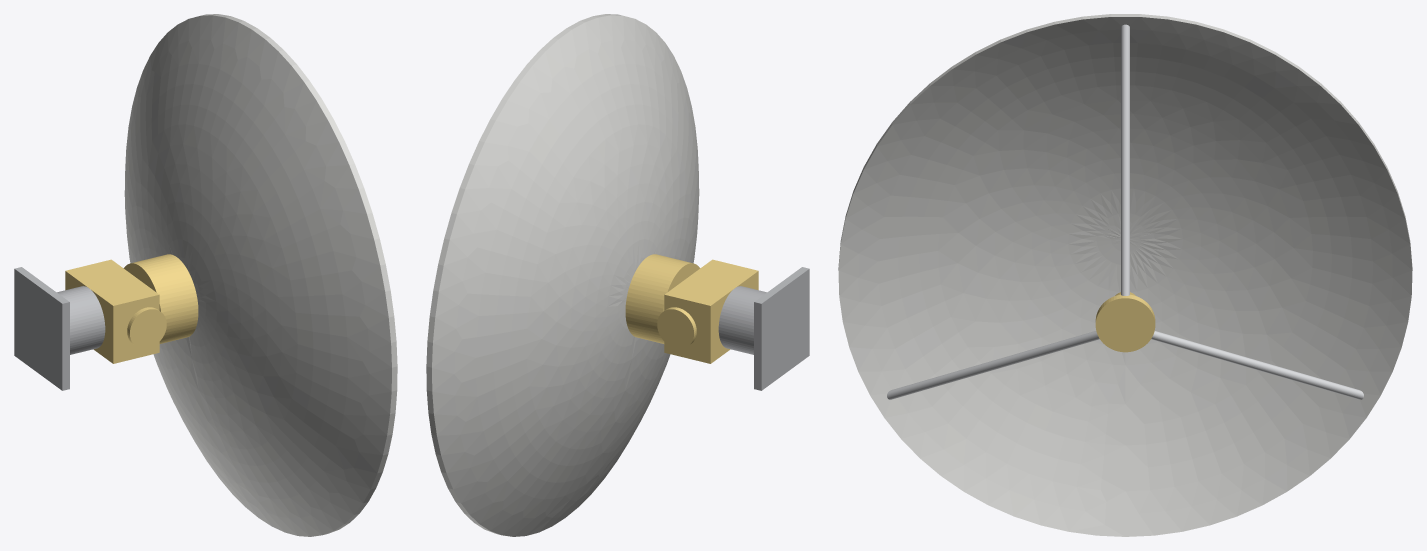
Rendered from power11_hga_dish.glb.
The picture shows the model from 3 angles, left to right: view 1: azimuth 30°, elevation 25°; view 2: azimuth 150°, elevation 25°; view 3: azimuth 270°, elevation 25°; orthographic projection. The views are drawn at different scales.
Parts seen in each view (by area): view 1: reflector, two_axis_gimbal, mount_base; view 2: reflector, two_axis_gimbal, mount_base; view 3: reflector, feed_struts, feed.
Boxes of the visible parts, x1,y1,x2,y2 form: reflector: [124, 14, 397, 536]; two_axis_gimbal: [65, 254, 198, 363]; mount_base: [14, 267, 105, 390]; reflector: [426, 14, 699, 536]; two_axis_gimbal: [625, 254, 758, 363]; mount_base: [718, 267, 809, 390]; reflector: [838, 14, 1412, 536]; feed_struts: [887, 24, 1363, 399]; feed: [1095, 292, 1155, 352].
Bounding box in the file's own units: 1.72 × 2.5 × 2.5.
